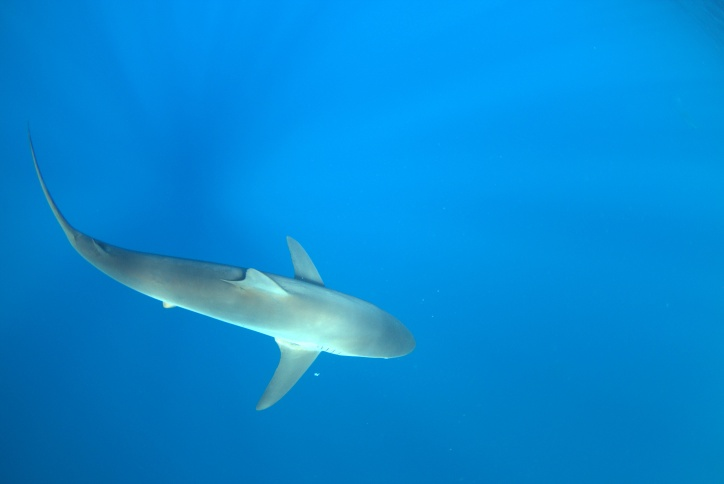Sedoso: (9, 115, 428, 416)
